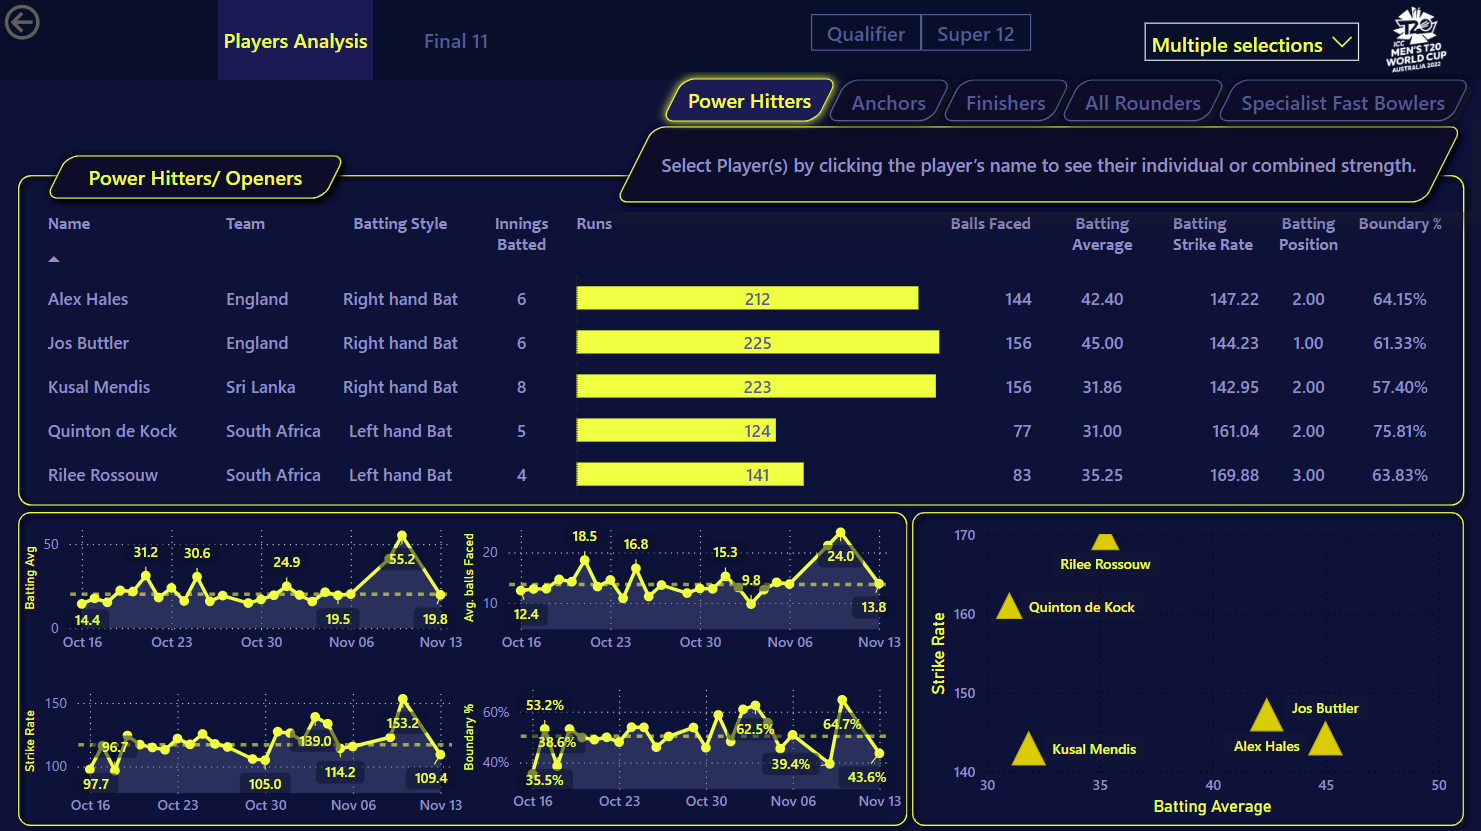

The page's visual inventory and layout, read from the dashboard file:
{"tool":"powerbi","page":{"name":"Openers","canvas":[1280,720],"ordinal":0},"visuals":[{"type":"shape","box":[0,70,1280,650],"z":0},{"type":"shape","box":[9.5,144.7,1261.4,299],"z":1000},{"type":"tableEx","fields":{"Values":["dim_players.Name","dim_players.Team","dim_player.Batting Style","Key_Measures.Total Matches","Key_Measures.Total Runs","Key_Measures.Total balls Faced","Key_Measures.Bat Avg","Key_Measures.Strike Rate","Key_Measures.Batting Position","Key_Measures.Boundary %"]},"box":[31.4,171.1,1229.4,264.7],"z":2000},{"type":"actionButton","box":[0,0,100,40],"z":3000},{"type":"shape","box":[523.8,101.7,746.7,81.7],"z":4000},{"type":"cardVisual","fields":{"Data":["Key_Measures.Batting Avg","Key_Measures.Strike Rate","Key_Measures.Avg. balls Faced","Key_Measures.Boundary %"]},"box":[704.6,95.3,548.8,84.3],"z":5000},{"type":"shape","box":[31.7,126.7,275,53.3],"z":6000},{"type":"shape","box":[9.5,435.8,781,284.7],"z":7000},{"type":"areaChart","fields":{"Y":["Key_Measures.Batting Avg"],"Category":["dim_match_summary.Match Date.Variation.Date Hierarchy.Year","dim_match_summary.Match Date.Variation.Date Hierarchy.Quarter","dim_match_summary.Match Date.Variation.Date Hierarchy.Month","dim_match_summary.Match Date.Variation.Date Hierarchy.Day"]},"box":[16,442,388.3,131],"z":8000},{"type":"areaChart","fields":{"Category":["dim_match_summary.Match Date.Variation.Date Hierarchy.Year","dim_match_summary.Match Date.Variation.Date Hierarchy.Quarter","dim_match_summary.Match Date.Variation.Date Hierarchy.Month","dim_match_summary.Match Date.Variation.Date Hierarchy.Day"],"Y":["Key_Measures.Avg. balls Faced"]},"box":[395,442,388,131],"z":9000},{"type":"areaChart","fields":{"Y":["Key_Measures.Strike Rate"],"Category":["dim_match_summary.Match Date.Variation.Date Hierarchy.Year","dim_match_summary.Match Date.Variation.Date Hierarchy.Quarter","dim_match_summary.Match Date.Variation.Date Hierarchy.Month","dim_match_summary.Match Date.Variation.Date Hierarchy.Day"]},"box":[16,582,388.3,131.7],"z":10000},{"type":"areaChart","fields":{"Y":["Key_Measures.Boundary %"],"Category":["dim_match_summary.Match Date.Variation.Date Hierarchy.Year","dim_match_summary.Match Date.Variation.Date Hierarchy.Quarter","dim_match_summary.Match Date.Variation.Date Hierarchy.Month","dim_match_summary.Match Date.Variation.Date Hierarchy.Day"]},"box":[395,578.3,388.3,131.7],"z":11000},{"type":"image","box":[1183.3,1.7,78.3,66.7],"z":12000},{"type":"actionButton","box":[189,0,133.6,70],"z":13000},{"type":"actionButton","box":[703.7,60,127.2,54.1],"z":14000},{"type":"actionButton","box":[803,60,131,54.1],"z":15000},{"type":"actionButton","box":[906.1,60,162.2,54.1],"z":16000},{"type":"actionButton","box":[1040.3,60,238.6,54.1],"z":17000},{"type":"shape","box":[781,435.8,489.9,284.7],"z":18000},{"type":"actionButton","box":[563.3,60,168.3,53.3],"z":19000},{"type":"scatterChart","fields":{"X":["Key_Measures.Batting Avg"],"Y":["Key_Measures.Strike Rate"],"Category":["dim_players.Name"],"Size":["Key_Measures.Total Runs"]},"box":[796.9,448.6,456.5,260.9],"z":20000},{"type":"actionButton","box":[700,12.7,95,31.7],"z":21000},{"type":"actionButton","box":[795,12.7,95,31.7],"z":22000},{"type":"actionButton","box":[322.9,0,143.2,70],"z":23000},{"type":"shape","box":[549,130,188.3,31.7],"z":24000},{"type":"shape","box":[571.3,126.7,651.7,31.7],"z":25000},{"type":"slicer","fields":{"Values":["dim_match_summary.Stage"]},"box":[978.3,10,205,50],"z":26000}]}

Visuals, with their boxes in screenshot pixels (x1, y1, x2, y2), scaled from the page's 1280x720 canvas onto the 1481x831 screenshot:
shape: box=[0, 81, 1480, 830]
shape: box=[11, 167, 1470, 512]
tableEx - dim_players.Name x dim_players.Team: box=[36, 197, 1459, 503]
actionButton: box=[0, 0, 116, 46]
shape: box=[606, 117, 1470, 212]
cardVisual - Key_Measures.Batting Avg x Key_Measures.Strike Rate: box=[815, 110, 1450, 207]
shape: box=[37, 146, 355, 208]
shape: box=[11, 503, 915, 830]
areaChart - Key_Measures.Batting Avg x dim_match_summary.Match Date.Variation.Date Hierarchy.Year: box=[19, 510, 468, 661]
areaChart - dim_match_summary.Match Date.Variation.Date Hierarchy.Year x dim_match_summary.Match Date.Variation.Date Hierarchy.Quarter: box=[457, 510, 906, 661]
areaChart - Key_Measures.Strike Rate x dim_match_summary.Match Date.Variation.Date Hierarchy.Year: box=[19, 672, 468, 824]
areaChart - Key_Measures.Boundary % x dim_match_summary.Match Date.Variation.Date Hierarchy.Year: box=[457, 667, 906, 819]
image: box=[1369, 2, 1460, 79]
actionButton: box=[219, 0, 373, 81]
actionButton: box=[814, 69, 961, 132]
actionButton: box=[929, 69, 1081, 132]
actionButton: box=[1048, 69, 1236, 132]
actionButton: box=[1204, 69, 1480, 132]
shape: box=[904, 503, 1470, 830]
actionButton: box=[652, 69, 846, 131]
scatterChart - Key_Measures.Batting Avg x Key_Measures.Strike Rate: box=[922, 518, 1450, 819]
actionButton: box=[810, 15, 920, 51]
actionButton: box=[920, 15, 1030, 51]
actionButton: box=[374, 0, 539, 81]
shape: box=[635, 150, 853, 187]
shape: box=[661, 146, 1415, 183]
slicer - dim_match_summary.Stage: box=[1132, 12, 1369, 69]
